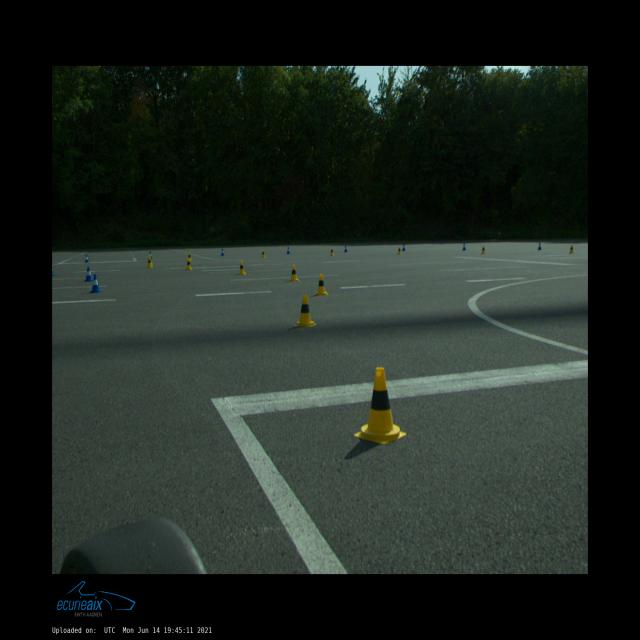blue_cone: (90, 274, 102, 293), (84, 267, 93, 281), (84, 255, 90, 262), (537, 242, 542, 250), (220, 248, 225, 256), (52, 266, 56, 276), (462, 243, 466, 250), (402, 244, 406, 251), (344, 245, 347, 252), (287, 247, 290, 254), (150, 252, 152, 259)
yellow_cone: (354, 367, 406, 444), (295, 294, 316, 327), (314, 274, 328, 295), (289, 265, 299, 281), (238, 261, 246, 275), (186, 258, 192, 270), (147, 257, 153, 267), (569, 244, 574, 254), (261, 249, 266, 258), (481, 246, 486, 254), (188, 252, 192, 261), (397, 247, 402, 254), (330, 248, 334, 255)
